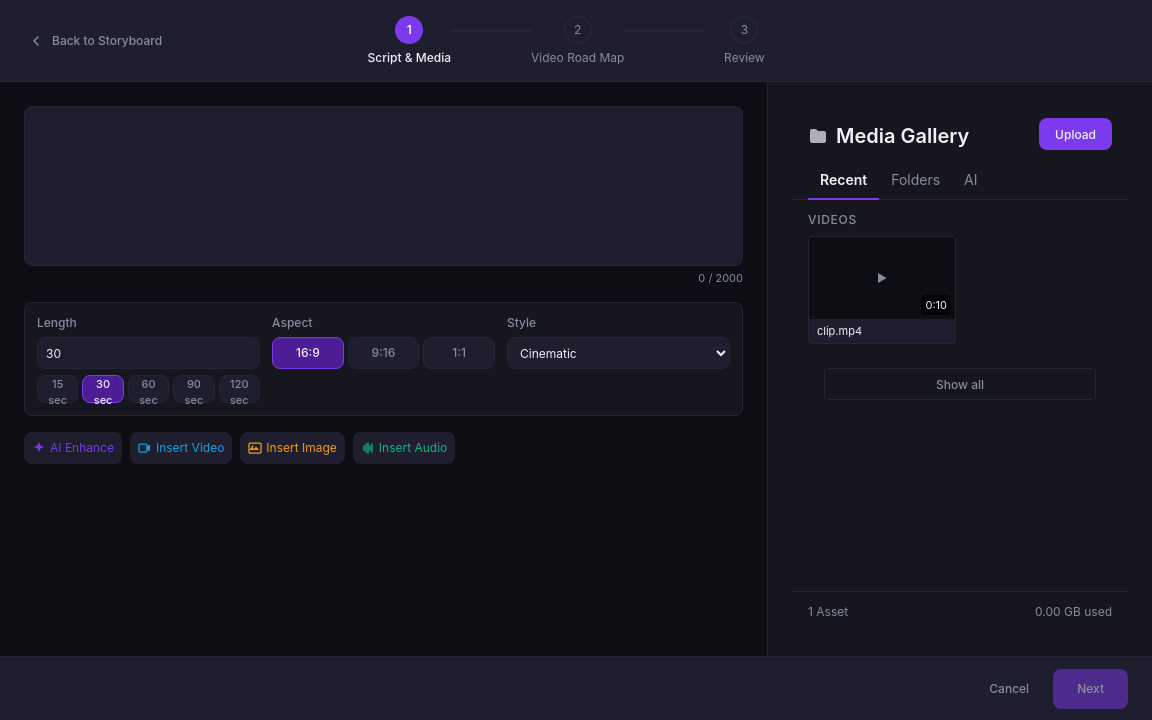
Test: GenerateWizardPage — asset detail panel › clicking an asset card opens the AssetDetailPanel
# Wait for the asset card to appear in the Recent tab.
Click the button "▶ 0:10 clip.mp4".
click(882, 290)  # box [808,236,956,344]
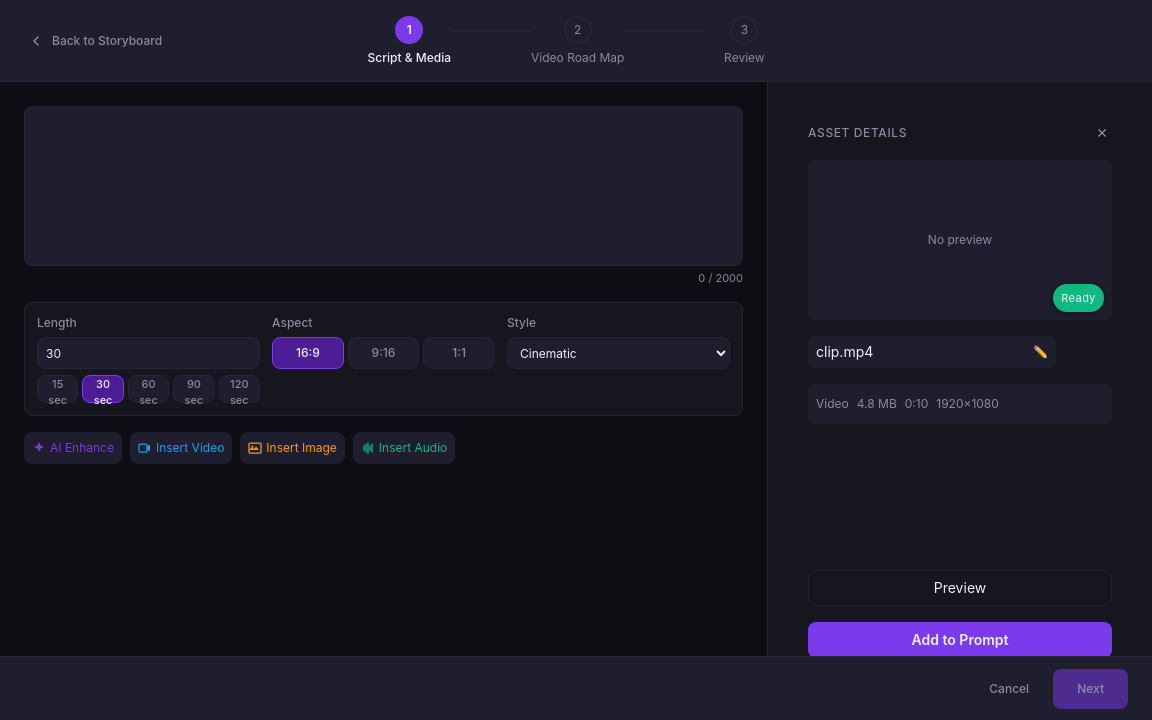
Check: the text "Asset Details" is shown, box [808,125,907,141]
Check: the heading "Media Gallery" is gone
